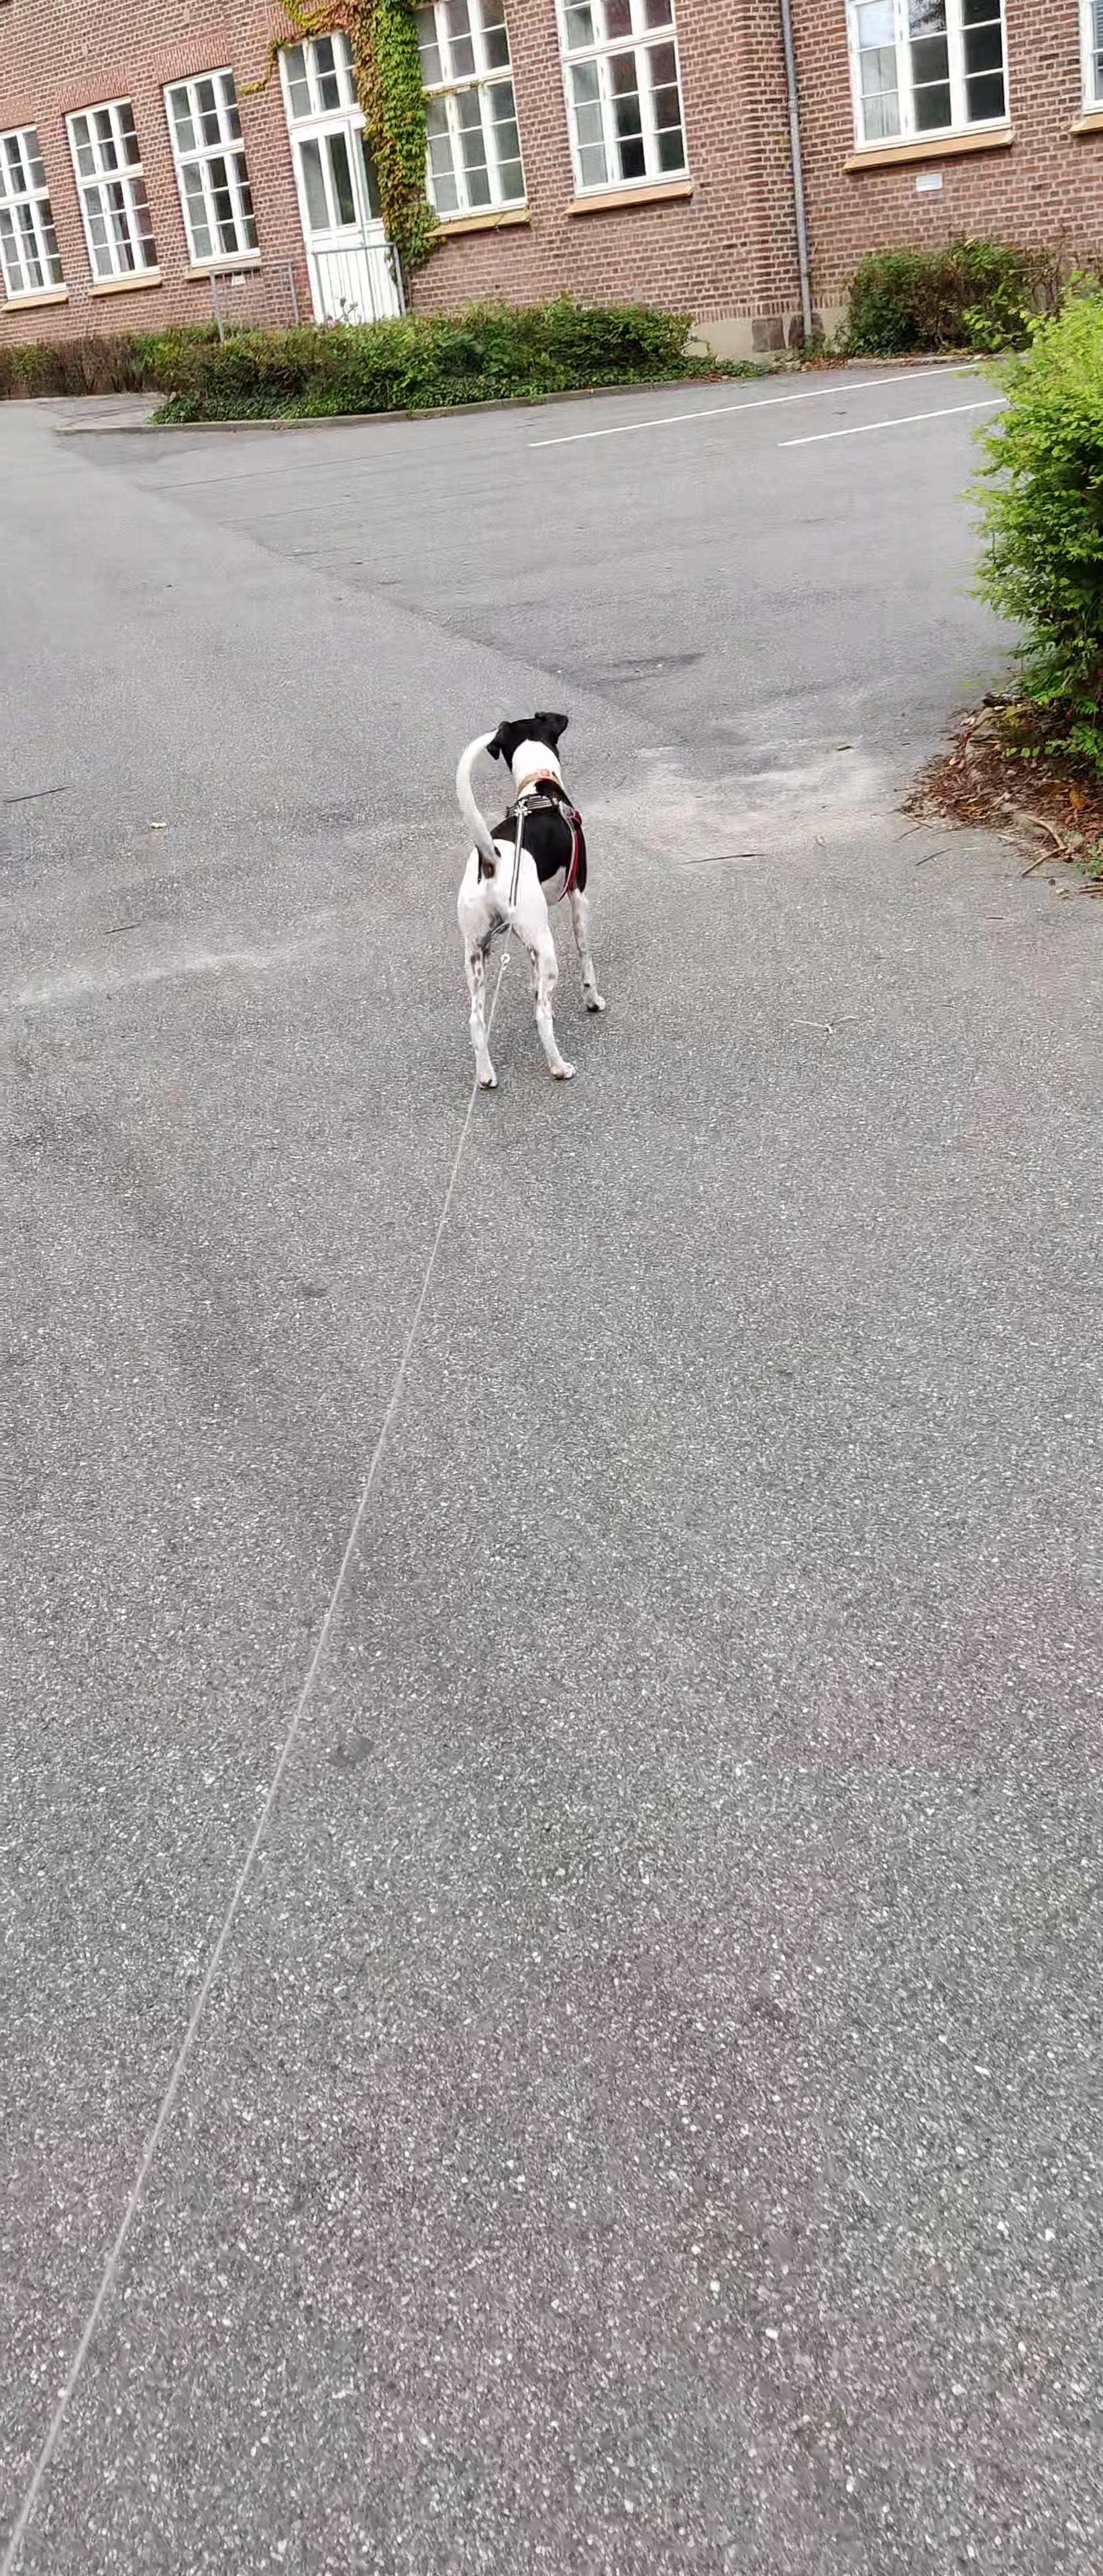Dog: (429, 695, 643, 1097)
